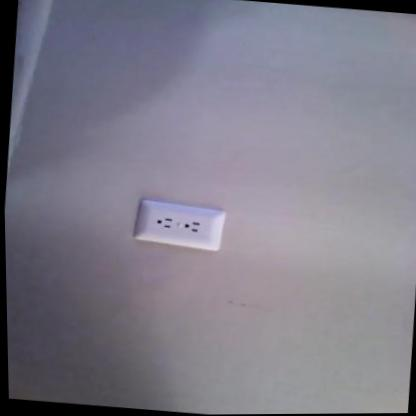OUTLET: (135, 200, 223, 251)
